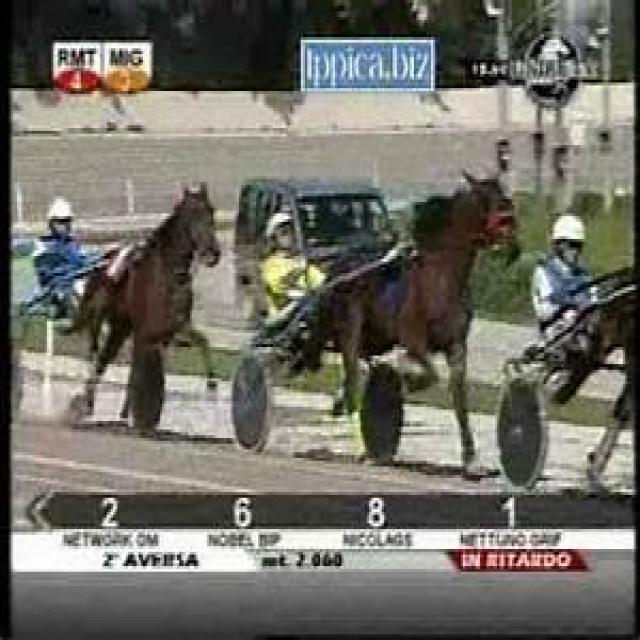animal: (288, 168, 521, 478), (57, 179, 222, 435)
